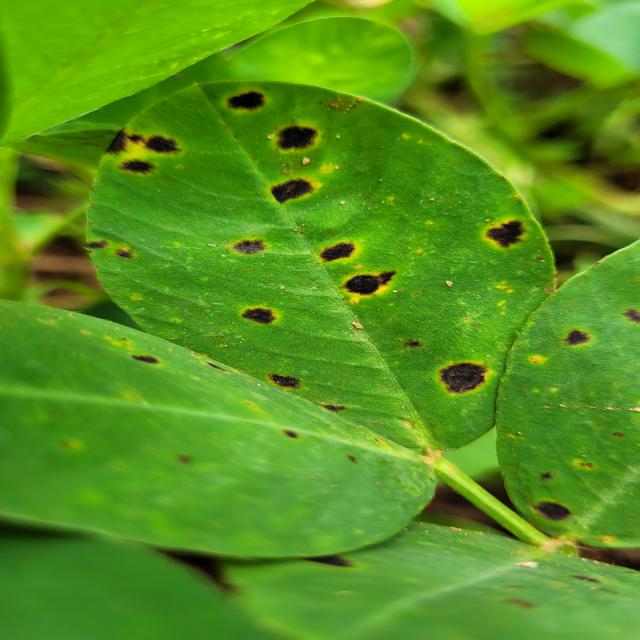Ground nut_tikka leaf spot: (74, 73, 562, 458)
